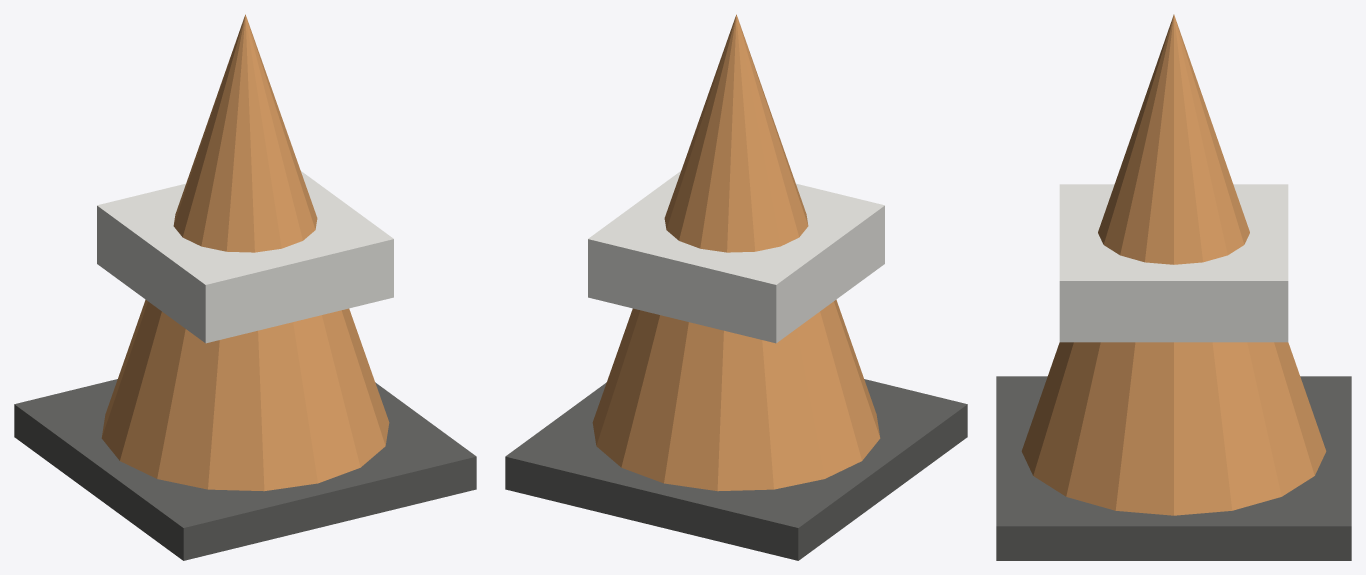
File: traffic_cone_01.glb
The picture shows the model from 3 angles, left to right: view 1: azimuth 30°, elevation 25°; view 2: azimuth 150°, elevation 25°; view 3: azimuth 270°, elevation 25°; orthographic projection. The views are drawn at different scales.
Parts seen in each view (by area): view 1: cone, base, stripe; view 2: cone, base, stripe; view 3: cone, base, stripe.
Boxes of the visible parts, x1,y1,x2,y2 form: cone: [101, 14, 389, 491]; base: [14, 379, 476, 560]; stripe: [97, 171, 393, 343]; cone: [592, 14, 880, 491]; base: [505, 379, 967, 560]; stripe: [588, 171, 884, 343]; cone: [1021, 14, 1326, 515]; base: [996, 376, 1351, 560]; stripe: [1059, 184, 1288, 342].
Size of the model in its own units: 0.42 by 0.615 by 0.42.
